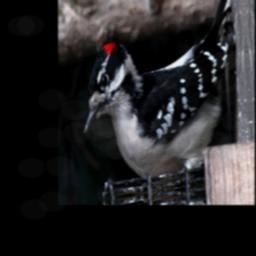Woodpecker: (75, 0, 243, 195)
